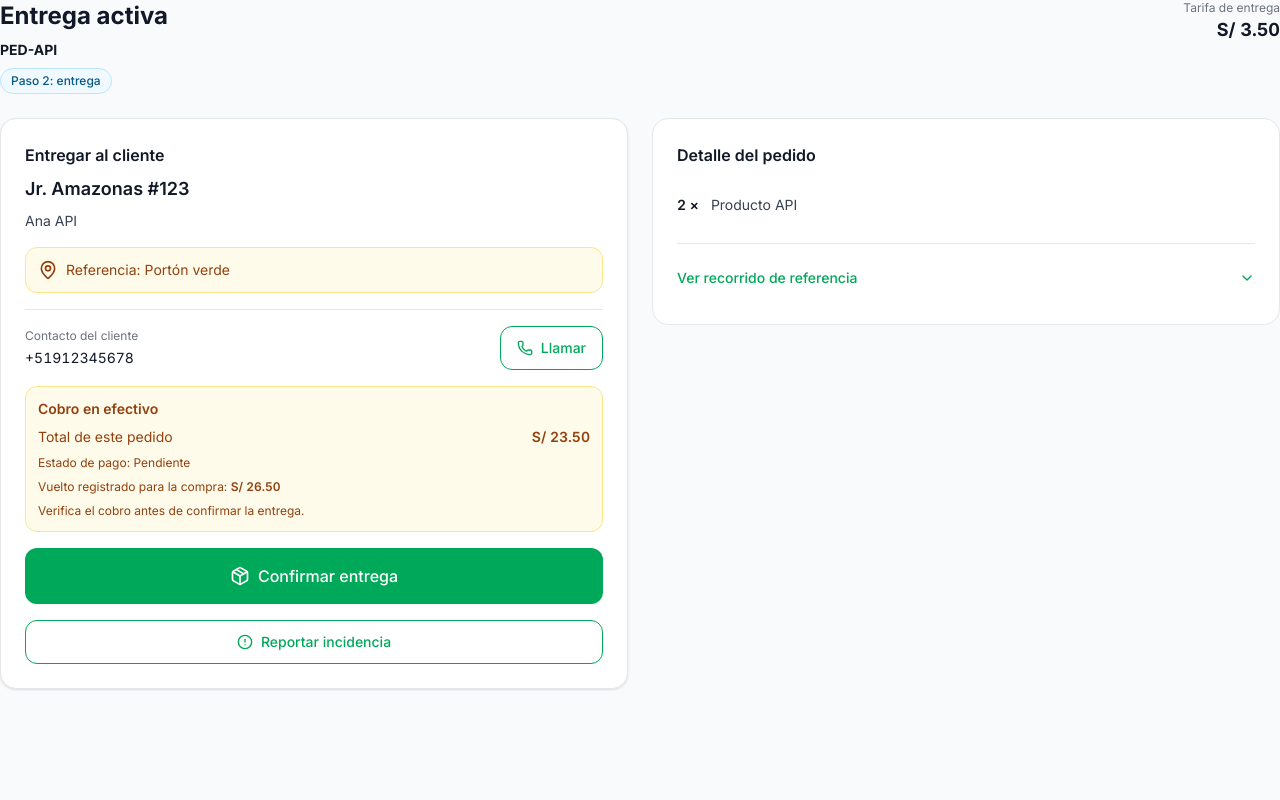
Test: confirma cobro y entrega con GET antes de mostrar historial
This screenshot has width=1280, height=800.
Click the button "Confirmar entrega" at (314, 576), box [25,548,603,604]
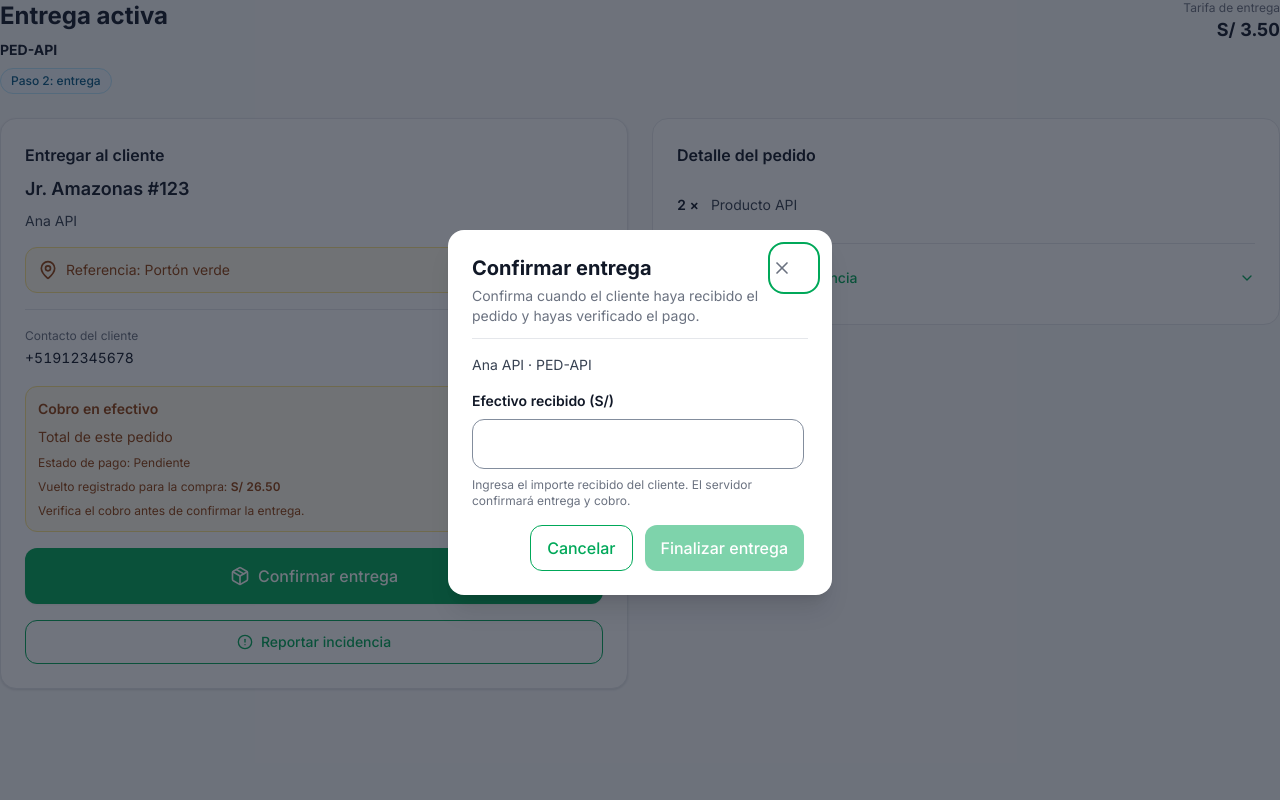
Type "50" into the field labelled "Efectivo recibido (S/)" at (638, 444), box [472,418,804,468]
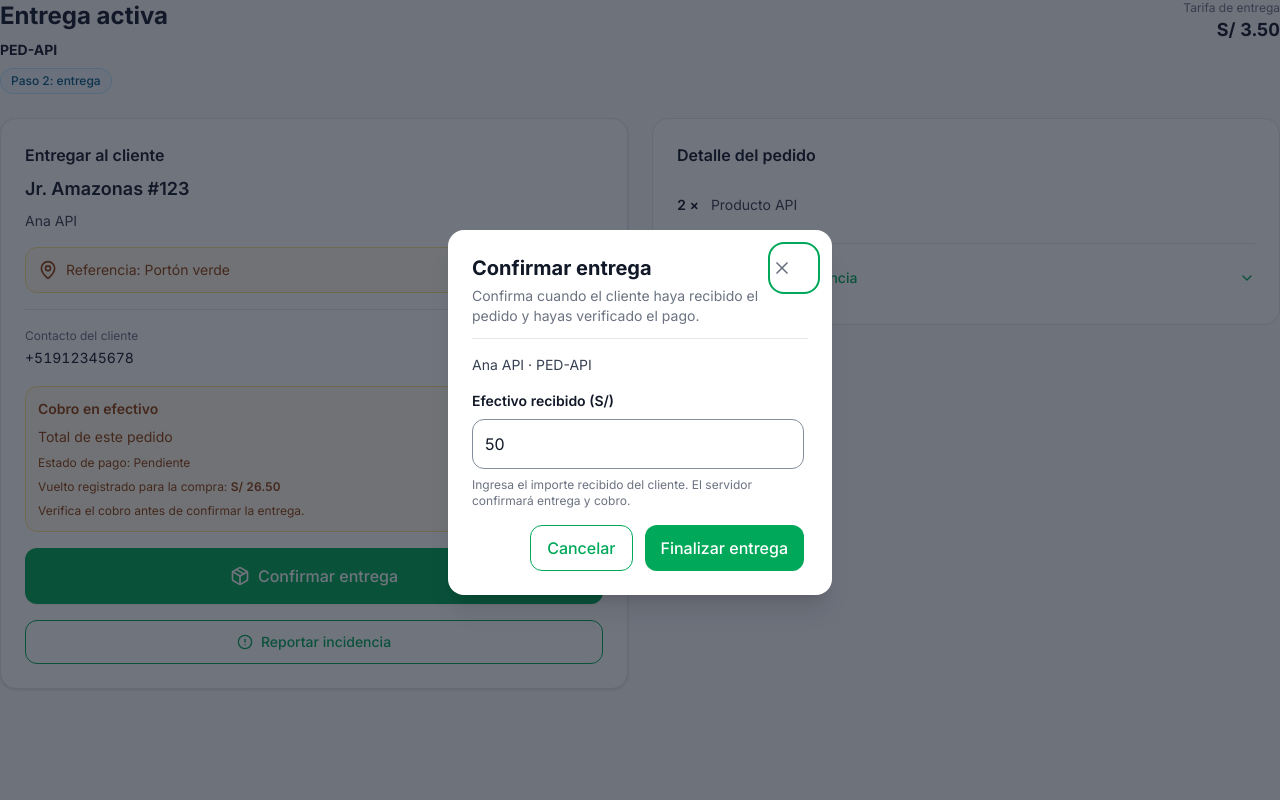
Click the button "Finalizar entrega" at (724, 548), box [644,524,804,570]
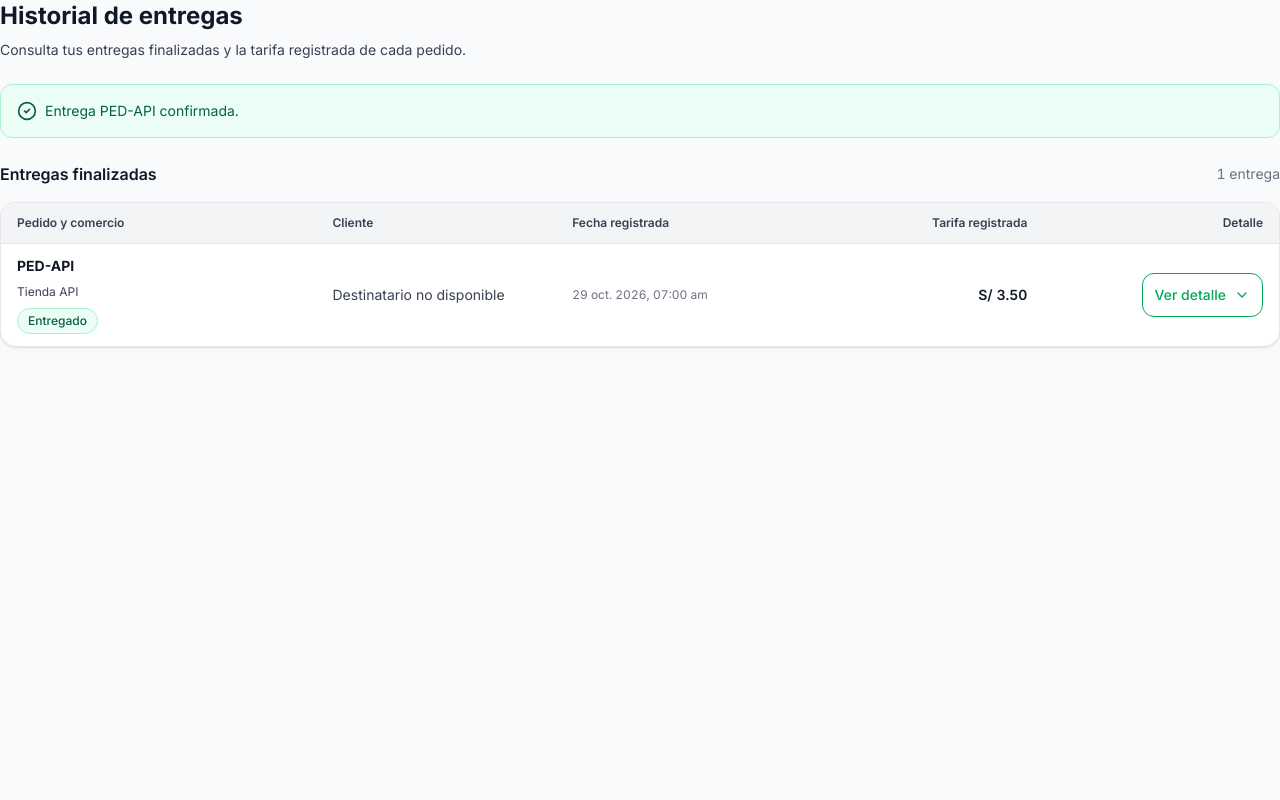
Now the heading "Historial de entregas" is shown, box [0,1,243,30]
